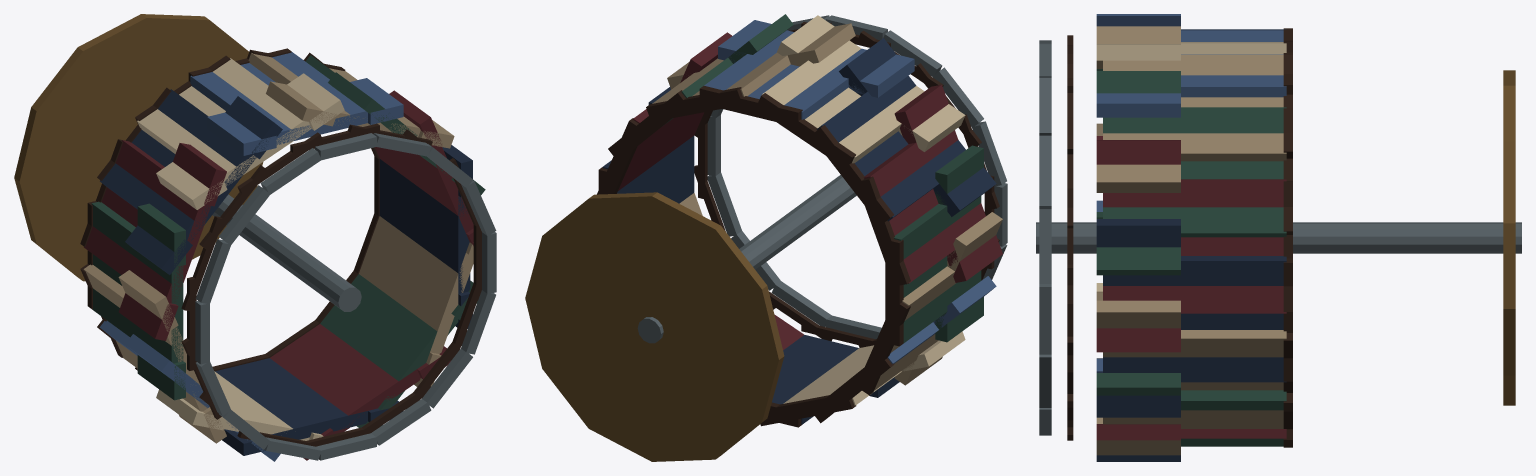
File: SM_BSW_RoundRack.obj
3 renders of one model, left to right at view 1: azimuth 30°, elevation 25°; view 2: azimuth 150°, elevation 25°; view 3: azimuth 270°, elevation 25°, orthographic. The views are drawn at different scales.
Visible parts, largest first — view 1: SM_BSW_RoundRack; view 2: SM_BSW_RoundRack; view 3: SM_BSW_RoundRack.
Part boxes in pixels (x1,y1,x2,y2): SM_BSW_RoundRack: (14, 14, 496, 461); SM_BSW_RoundRack: (525, 14, 1007, 461); SM_BSW_RoundRack: (1036, 14, 1521, 461).
Bounding box in the file's own units: 143 × 143 × 156.
